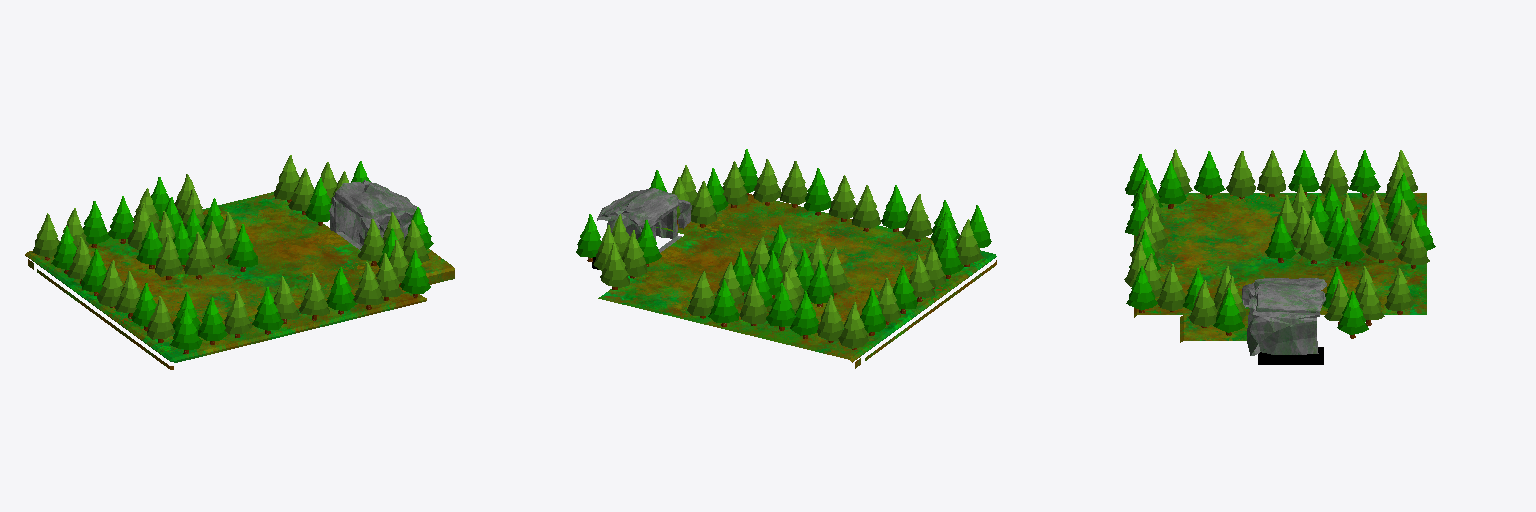
The picture shows the model from 3 angles: view 1: azimuth 30°, elevation 25°; view 2: azimuth 150°, elevation 25°; view 3: azimuth 270°, elevation 25°; orthographic projection.
Visible parts, largest first — view 1: Cube.111, techo, Arbol_1.103, Arbol_1.165, Arbol_1.168, Arbol_1.208, Arbol_1.151, Arbol_1.166, Arbol_1.150, Arbol_1.149, Arbol_1.154, Arbol_1.097 (+22 smaller); view 2: Cube.111, techo, Arbol_1.177, Arbol_1.167, Arbol_1.175, Arbol_1.171, Arbol_1.173, Arbol_1.172, Arbol_1.164, Arbol_1.174, Arbol_1.170, Arbol_1.176 (+19 smaller); view 3: Cube.111, Cube.019, techo.001, suelo_externo, Arbol_1.169, Arbol_1.096, Arbol_1.170, Arbol_1.205, Arbol_1.152, Arbol_1.204, Arbol_1.004, Arbol_1.163 (+15 smaller).
Boxes of the visible parts, box(x1,y1,x2,y2) form: Cube.111: box(25, 192, 426, 369); techo: box(334, 182, 394, 218); Arbol_1.103: box(400, 250, 430, 297); Arbol_1.165: box(252, 287, 283, 334); Arbol_1.168: box(170, 307, 202, 353); Arbol_1.208: box(228, 224, 257, 271); Arbol_1.151: box(326, 267, 356, 314); Arbol_1.166: box(198, 297, 227, 344); Arbol_1.150: box(299, 273, 329, 320); Arbol_1.149: box(353, 262, 384, 309); Arbol_1.154: box(184, 232, 213, 279); Arbol_1.097: box(155, 233, 183, 279); Cube.111: box(598, 194, 996, 368); techo: box(622, 188, 678, 226); Arbol_1.177: box(838, 302, 868, 349); Arbol_1.167: box(902, 194, 932, 241); Arbol_1.175: box(600, 242, 629, 289); Arbol_1.171: box(708, 279, 739, 326); Arbol_1.173: box(740, 278, 766, 325); Arbol_1.172: box(766, 283, 795, 330); Arbol_1.164: box(852, 185, 880, 231); Arbol_1.174: box(790, 291, 818, 338); Arbol_1.170: box(687, 271, 714, 318); Arbol_1.176: box(817, 295, 843, 342); Cube.111: box(1134, 193, 1426, 317); Cube.019: box(1247, 310, 1320, 355); techo.001: box(1254, 286, 1325, 312); suelo_externo: box(1180, 315, 1247, 342); Arbol_1.169: box(1226, 151, 1255, 198); Arbol_1.096: box(1188, 280, 1217, 327); Arbol_1.170: box(1398, 220, 1429, 268); Arbol_1.205: box(1298, 216, 1330, 263); Arbol_1.152: box(1157, 264, 1184, 311); Arbol_1.204: box(1366, 215, 1397, 262); Arbol_1.004: box(1337, 291, 1368, 338); Arbol_1.163: box(1194, 151, 1225, 198).
Size of the model in its own units: 126 by 25.35 by 105.
Materials: 4 (4 with a texture image).